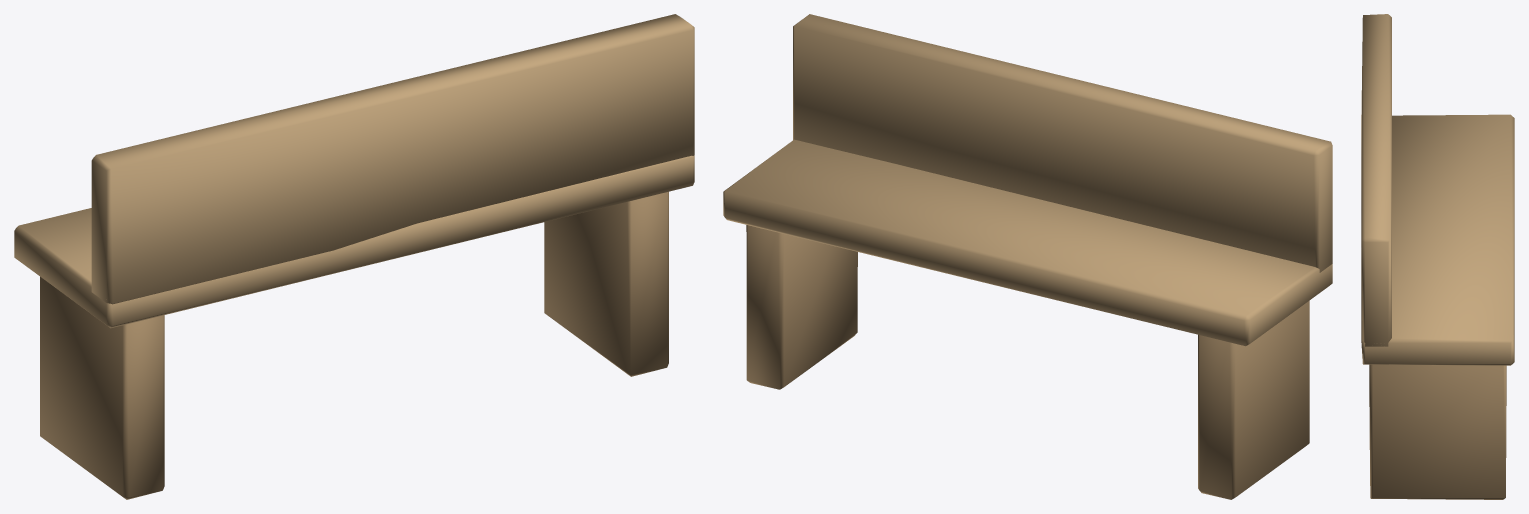
File: prop_bench.glb
3 views of the same model, side by side, from view 1: azimuth 30°, elevation 25°; view 2: azimuth 150°, elevation 25°; view 3: azimuth 270°, elevation 25° (orthographic). The views are drawn at different scales.
Visible parts, largest first — view 1: prop_bench; view 2: prop_bench; view 3: prop_bench.
Boxes of the visible parts, bbox=[...] form: prop_bench: bbox=[14, 14, 694, 499]; prop_bench: bbox=[723, 14, 1332, 499]; prop_bench: bbox=[1361, 14, 1514, 499].
Size of the model in its own units: 1.4 by 0.78 by 0.4.
